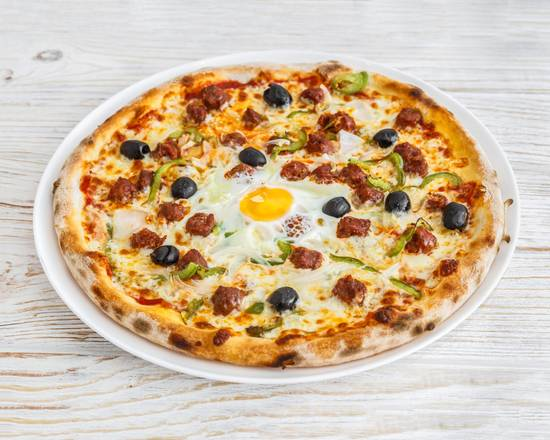Olives: (264, 285, 299, 311), (441, 201, 470, 231), (382, 186, 412, 214), (259, 83, 293, 106), (372, 123, 400, 149), (323, 192, 351, 218), (119, 138, 151, 160), (237, 145, 268, 167), (150, 245, 179, 267), (171, 175, 197, 199)
Pizza: (53, 59, 509, 370)
